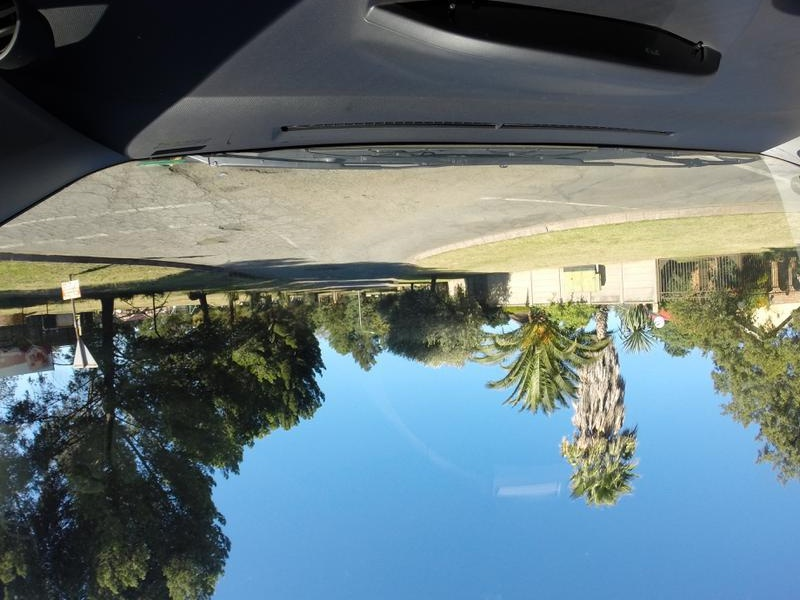pothole: (235, 168, 289, 181), (190, 235, 230, 246), (215, 219, 243, 232)
